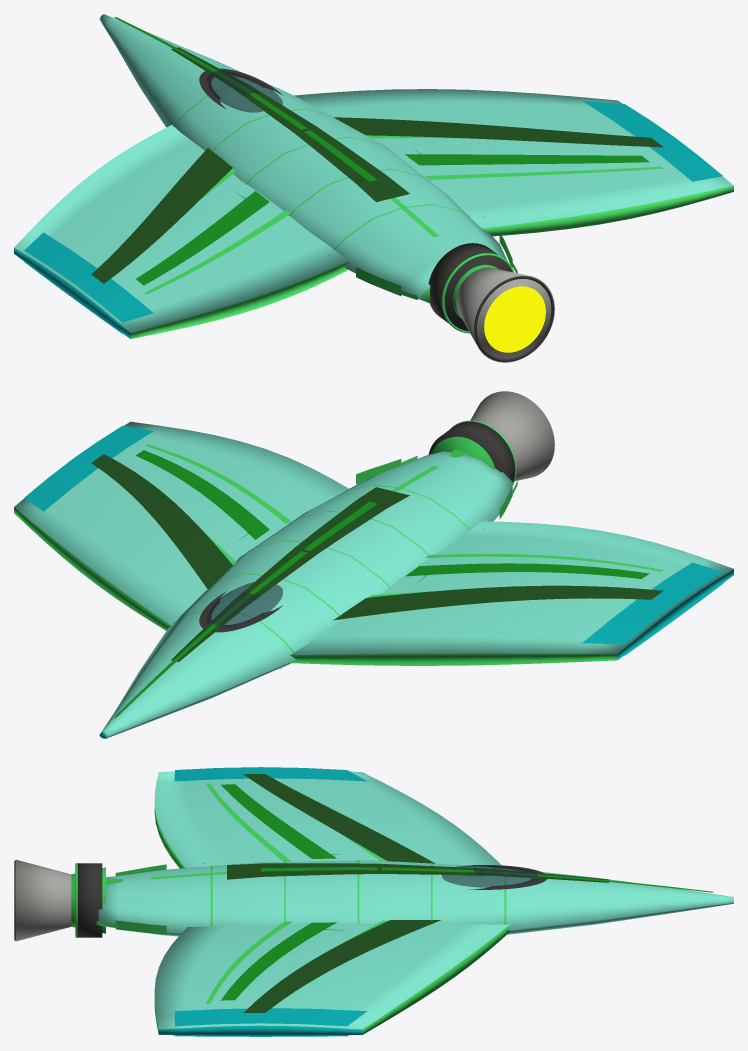
Rendered from Ship_ManraRay_766613.glb.
The picture shows the model from 3 angles, top to bottom: view 1: azimuth 30°, elevation 25°; view 2: azimuth 150°, elevation 25°; view 3: azimuth 270°, elevation 25°; orthographic projection. The views are drawn at different scales.
Parts seen in each view (by area): view 1: Fuselage_CentralRayHull_FacetedAeroBody, Wing_Left_MantaAerofoil, Wing_Right_MantaAerofoil, PaintWingSweep_Right_PrimaryLongArc_Top, PaintWingSweep_Left_PrimaryLongArc_Top, PaintDorsalSweep_PrimaryMantaArrow, EngineBell_CentralMainRocketNozzle, WingTipTrim_Left_HardCutOuterPlate_Top, EngineEmitter, WingTipTrim_Right_HardCutOuterPlate_Top, EngineMount_AftCentralTailBlock, PaintWingSweep_Right_SecondaryLowerArc_Top (+7 smaller); view 2: Fuselage_CentralRayHull_FacetedAeroBody, Wing_Left_MantaAerofoil, Wing_Right_MantaAerofoil, PaintWingSweep_Left_PrimaryLongArc_Top, PaintWingSweep_Right_PrimaryLongArc_Top, EngineBell_CentralMainRocketNozzle, PaintDorsalSweep_PrimaryMantaArrow, WingTipTrim_Left_HardCutOuterPlate_Top, WingTipTrim_Right_HardCutOuterPlate_Top, PaintWingSweep_Left_SecondaryLowerArc_Top, PaintWingSweep_Right_SecondaryLowerArc_Top, CanopyGlass_LowInsetMantaDome (+6 smaller); view 3: Fuselage_CentralRayHull_FacetedAeroBody, Wing_Right_MantaAerofoil, Wing_Left_MantaAerofoil, EngineBell_CentralMainRocketNozzle, PaintWingSweep_Right_PrimaryLongArc_Top, PaintWingSweep_Left_PrimaryLongArc_Top, PaintDorsalSweep_PrimaryMantaArrow, WingTipTrim_Right_HardCutOuterPlate_Top, WingTipTrim_Left_HardCutOuterPlate_Top, EngineMount_AftCentralTailBlock, PaintWingSweep_Left_SecondaryLowerArc_Top, PaintWingSweep_Right_SecondaryLowerArc_Top (+7 smaller).
Part boxes in pixels (<box>): Fuselage_CentralRayHull_FacetedAeroBody: <box>99,14,507,303</box>; Wing_Left_MantaAerofoil: <box>14,125,348,338</box>; Wing_Right_MantaAerofoil: <box>294,89,733,236</box>; PaintWingSweep_Right_PrimaryLongArc_Top: <box>333,117,663,147</box>; PaintWingSweep_Left_PrimaryLongArc_Top: <box>91,148,232,283</box>; PaintDorsalSweep_PrimaryMantaArrow: <box>171,47,409,202</box>; EngineBell_CentralMainRocketNozzle: <box>456,267,554,362</box>; WingTipTrim_Left_HardCutOuterPlate_Top: <box>24,232,153,322</box>; EngineEmitter: <box>484,286,545,352</box>; WingTipTrim_Right_HardCutOuterPlate_Top: <box>582,101,722,181</box>; EngineMount_AftCentralTailBlock: <box>428,243,511,331</box>; PaintWingSweep_Right_SecondaryLowerArc_Top: <box>405,154,649,165</box>; Fuselage_CentralRayHull_FacetedAeroBody: <box>99,451,513,738</box>; Wing_Left_MantaAerofoil: <box>289,521,733,665</box>; Wing_Right_MantaAerofoil: <box>14,421,348,630</box>; PaintWingSweep_Left_PrimaryLongArc_Top: <box>333,585,663,620</box>; PaintWingSweep_Right_PrimaryLongArc_Top: <box>91,454,232,589</box>; EngineBell_CentralMainRocketNozzle: <box>470,391,554,480</box>; PaintDorsalSweep_PrimaryMantaArrow: <box>171,487,409,661</box>; WingTipTrim_Left_HardCutOuterPlate_Top: <box>582,562,722,644</box>; WingTipTrim_Right_HardCutOuterPlate_Top: <box>24,425,153,511</box>; PaintWingSweep_Left_SecondaryLowerArc_Top: <box>405,563,649,578</box>; PaintWingSweep_Right_SecondaryLowerArc_Top: <box>136,450,269,539</box>; CanopyGlass_LowInsetMantaDome: <box>207,582,282,628</box>; Fuselage_CentralRayHull_FacetedAeroBody: <box>98,860,733,936</box>; Wing_Right_MantaAerofoil: <box>154,923,510,1035</box>; Wing_Left_MantaAerofoil: <box>154,771,501,868</box>; EngineBell_CentralMainRocketNozzle: <box>15,859,71,941</box>; PaintWingSweep_Right_PrimaryLongArc_Top: <box>244,920,440,1012</box>; PaintWingSweep_Left_PrimaryLongArc_Top: <box>243,774,435,863</box>; PaintDorsalSweep_PrimaryMantaArrow: <box>227,863,608,882</box>; WingTipTrim_Right_HardCutOuterPlate_Top: <box>174,1008,366,1026</box>; WingTipTrim_Left_HardCutOuterPlate_Top: <box>174,767,366,781</box>; EngineMount_AftCentralTailBlock: <box>77,863,102,937</box>; PaintWingSweep_Left_SecondaryLowerArc_Top: <box>221,784,336,858</box>; PaintWingSweep_Right_SecondaryLowerArc_Top: <box>221,922,336,1000</box>.
Bounding box in the file's own units: 6.56 × 0.8844 × 7.75.
